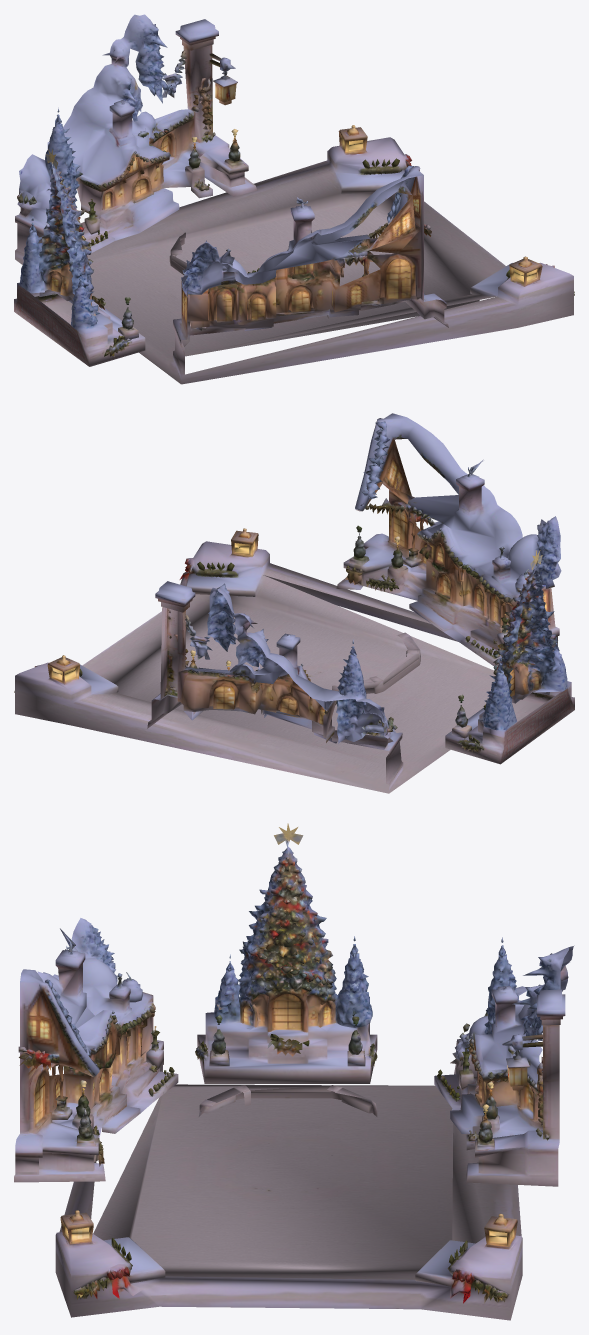
The model's file is background.glb.
3 views of the same model, one above another, from view 1: azimuth 30°, elevation 25°; view 2: azimuth 150°, elevation 25°; view 3: azimuth 270°, elevation 25° (orthographic). The views are drawn at different scales.
Visible parts, largest first — view 1: tripo_node_200270ff-de61-4bb5-b3b9-5a9cf8e9b395; view 2: tripo_node_200270ff-de61-4bb5-b3b9-5a9cf8e9b395; view 3: tripo_node_200270ff-de61-4bb5-b3b9-5a9cf8e9b395.
Part boxes in pixels (left/top/right/bottom): tripo_node_200270ff-de61-4bb5-b3b9-5a9cf8e9b395: left=14, top=14, right=574, bottom=384; tripo_node_200270ff-de61-4bb5-b3b9-5a9cf8e9b395: left=14, top=413, right=574, bottom=793; tripo_node_200270ff-de61-4bb5-b3b9-5a9cf8e9b395: left=14, top=823, right=574, bottom=1320.
Bounding box in the file's own units: 27.01 × 12 × 24.9.
1 material, 1 textured.
